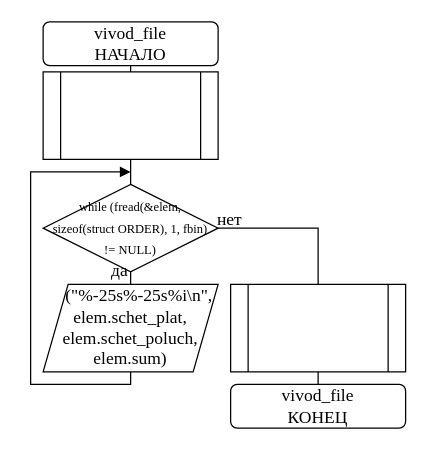
Some shapes in this 428 by 450 pixel diagram are drawn without their labels. Here are the shapes that lost their labels. From the top down, the centre of each, then its label:
(x=130, y=115): FILE *fbin = fopen ("ORDER.dat", "rb");
(x=317, y=327): fclose(fbin);
